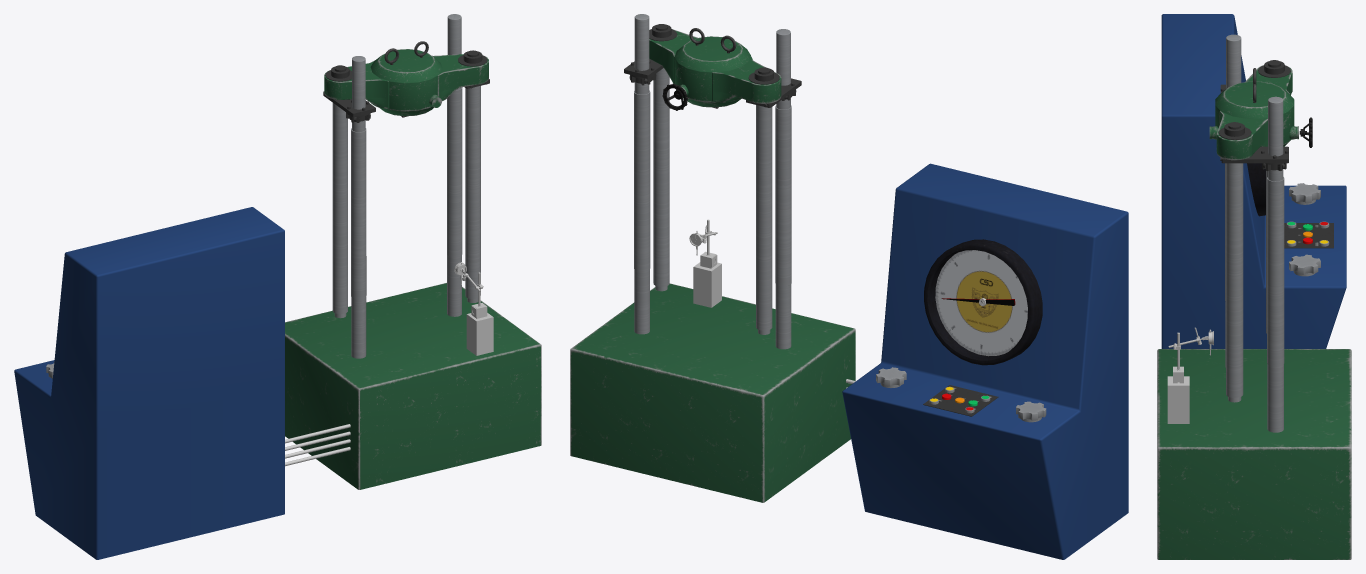
Rendered from UTM_other.fbx.
3 views of the same model, side by side, from view 1: azimuth 30°, elevation 25°; view 2: azimuth 150°, elevation 25°; view 3: azimuth 270°, elevation 25° (orthographic). The views are drawn at different scales.
Visible parts, largest first — view 1: Base_controler, base_low.001, rotating_rod_low.001, secondary_low.001, secondary_low.002, upper_part_low.001, upper_part_secondary_low.001, Cylinder, holder_stand, upper_circular_small_part_low.001; view 2: Base_controler, base_low.001, rotating_rod_low.001, controller_dial, secondary_low.002, secondary_low.001, dial_outer_part, upper_part_low.001, upper_part_secondary_low.001, holder_stand, controller_button_base, upper_circular_small_part_low.001 (+1 smaller); view 3: base_low.001, Base_controler, secondary_low.002, rotating_rod_low.001, upper_part_low.001, upper_part_secondary_low.001, holder_stand, secondary_low.001, controller_button_base, upper_circular_small_part_low.001, dial_outer_part, flat_rect_low.001 (+3 smaller).
Part boxes in pixels (bbox=[...]): Base_controler: bbox=[14, 207, 284, 559]; base_low.001: bbox=[285, 283, 541, 489]; rotating_rod_low.001: bbox=[332, 86, 480, 318]; secondary_low.001: bbox=[351, 56, 366, 358]; secondary_low.002: bbox=[447, 14, 462, 316]; upper_part_low.001: bbox=[370, 49, 442, 116]; upper_part_secondary_low.001: bbox=[324, 54, 488, 108]; Cylinder: bbox=[285, 424, 350, 466]; holder_stand: bbox=[466, 313, 493, 355]; upper_circular_small_part_low.001: bbox=[325, 50, 487, 81]; Base_controler: bbox=[842, 163, 1128, 559]; base_low.001: bbox=[570, 283, 855, 502]; rotating_rod_low.001: bbox=[653, 68, 772, 334]; controller_dial: bbox=[935, 250, 1027, 356]; secondary_low.002: bbox=[634, 14, 650, 334]; secondary_low.001: bbox=[775, 29, 791, 349]; dial_outer_part: bbox=[924, 239, 1042, 365]; upper_part_low.001: bbox=[674, 36, 750, 107]; upper_part_secondary_low.001: bbox=[649, 29, 781, 103]; holder_stand: bbox=[693, 262, 721, 307]; controller_button_base: bbox=[923, 385, 998, 416]; upper_circular_small_part_low.001: bbox=[649, 24, 779, 84]; base_low.001: bbox=[1157, 349, 1351, 559]; Base_controler: bbox=[1161, 14, 1346, 348]; secondary_low.002: bbox=[1267, 96, 1284, 432]; rotating_rod_low.001: bbox=[1226, 163, 1267, 402]; upper_part_low.001: bbox=[1215, 81, 1294, 146]; upper_part_secondary_low.001: bbox=[1216, 65, 1292, 160]; holder_stand: bbox=[1167, 376, 1189, 423]; secondary_low.001: bbox=[1225, 34, 1241, 367]; controller_button_base: bbox=[1284, 223, 1333, 248]; upper_circular_small_part_low.001: bbox=[1218, 60, 1290, 140]; dial_outer_part: bbox=[1247, 163, 1265, 216]; flat_rect_low.001: bbox=[1220, 84, 1288, 163].
Bounding box in the file's own units: 255 × 223 × 87.23.
